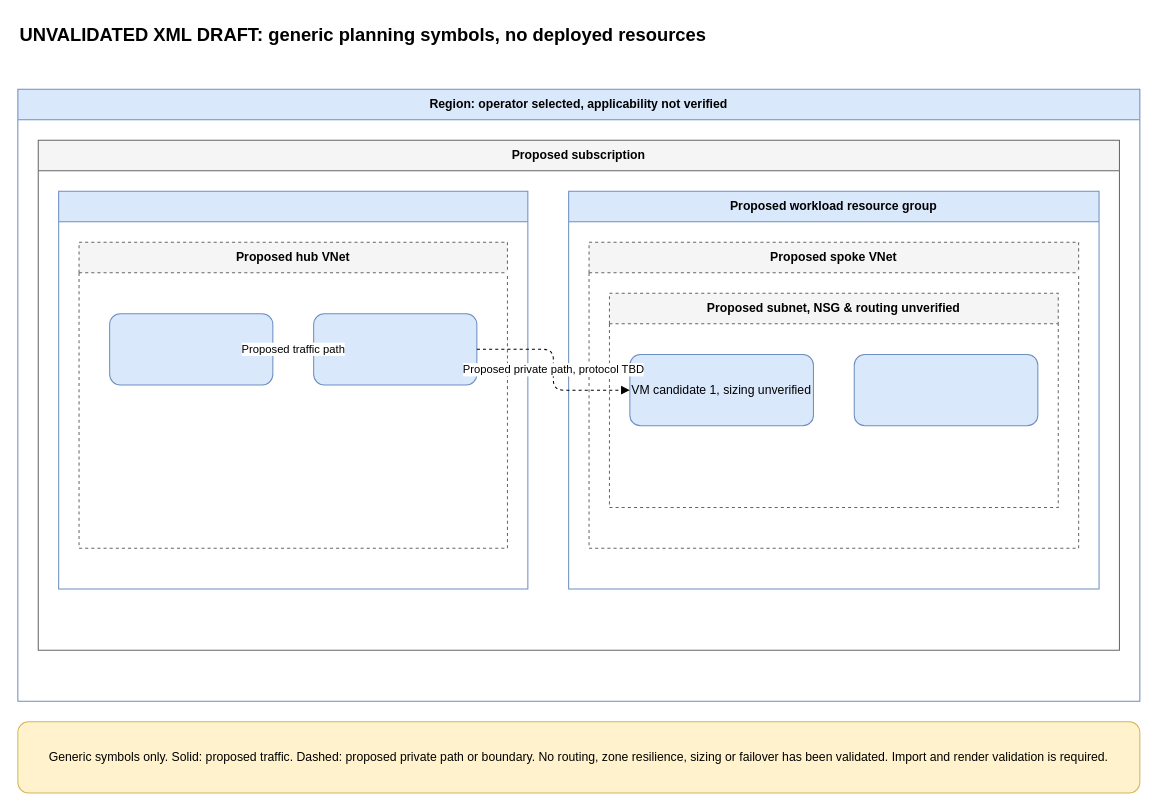
Image size: 1158x811. Some labels were removed from this diagram. The shapes that lost their labels are listed below. From the top down, each one's box as (x1, y1, x2, y2) in pixels, then its label:
(109, 313, 273, 385): Gateway candidate, SKU not selected
(313, 313, 477, 385): Firewall candidate, policy not assessed
(58, 190, 528, 589): Proposed connectivity resource group
(853, 353, 1038, 426): VM candidate 2, placement unverified
